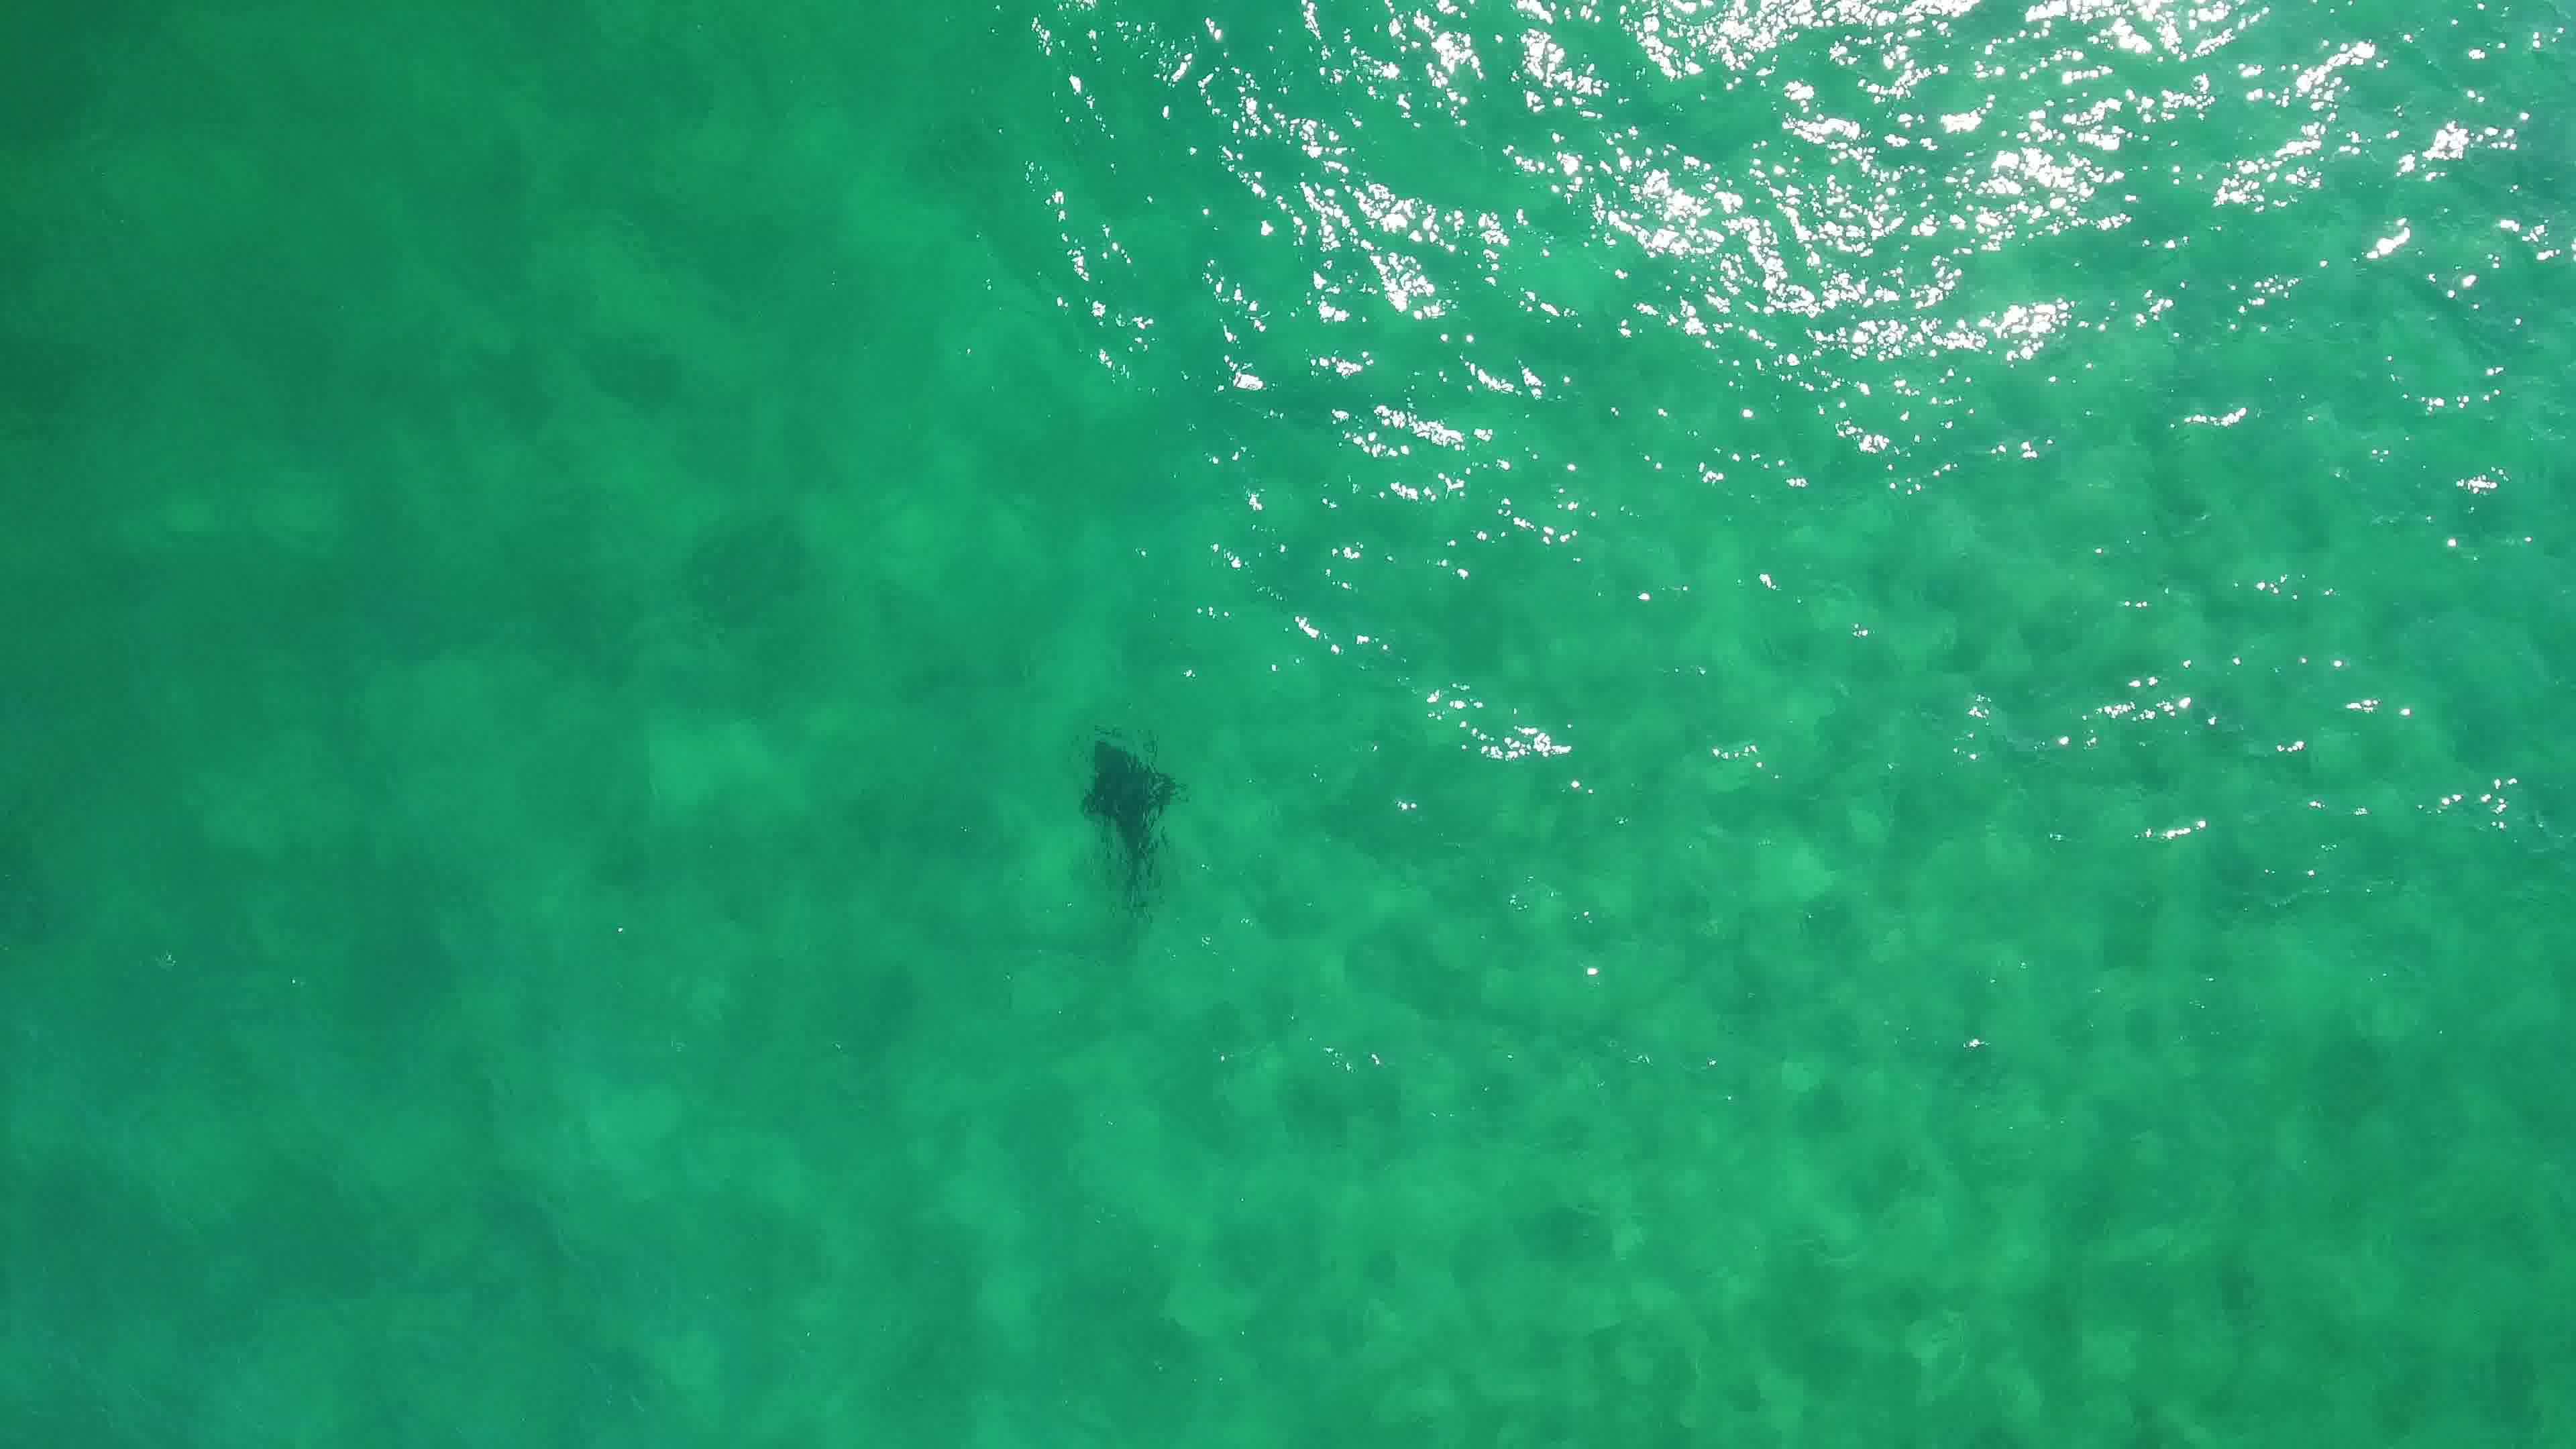shark: (1069, 731, 1189, 902)
